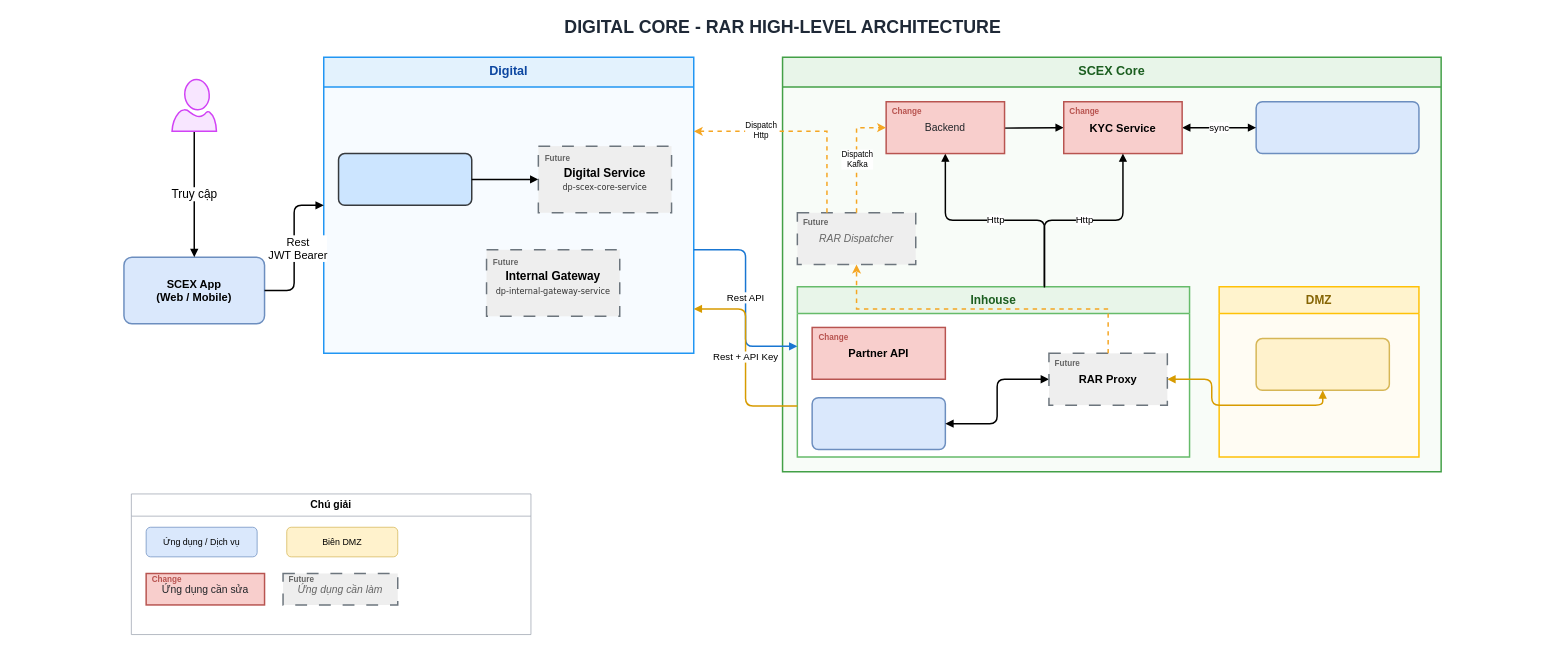
Image size: 1564x648. Some labels were removed from this diagram. Each missing label, with the centre of its shape:
"C06 Agent Gateway" belongs at pixel 1322 364.
"Digital Gateway dp-scex-gateway-service" belongs at pixel 404 179.
"Document Verification Service" belongs at pixel 1337 127.
"Gateway" belongs at pixel 878 423.
"User" belongs at pixel 194 105.
